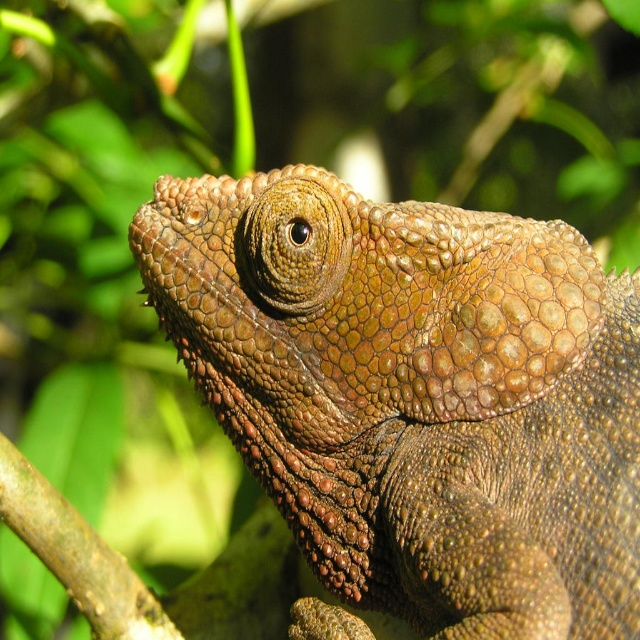Lizard: (132, 132, 626, 636)
